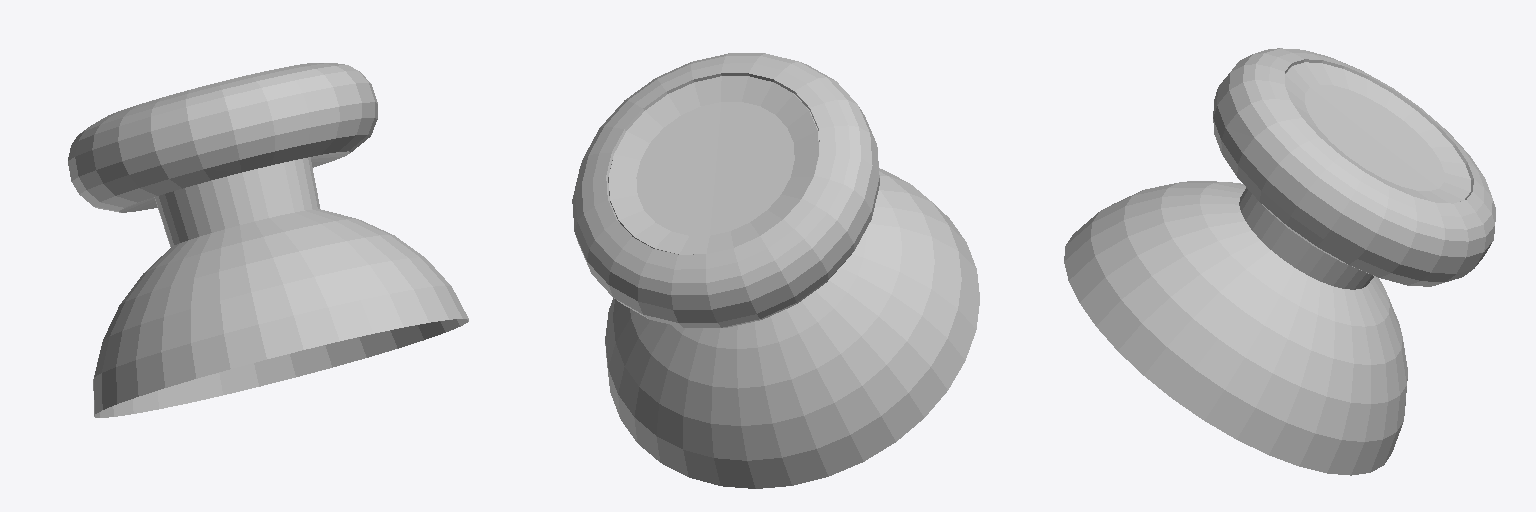
The model's file is oculus_quest_pro_controller_right_thumbstick.obj.
The picture shows the model from 3 angles: view 1: azimuth 30°, elevation 25°; view 2: azimuth 150°, elevation 25°; view 3: azimuth 270°, elevation 25°; orthographic projection.
Visible parts, largest first — view 1: oculus_quest_pro_controller_right_thumbstick; view 2: oculus_quest_pro_controller_right_thumbstick; view 3: oculus_quest_pro_controller_right_thumbstick.
Part boxes in pixels (bbox=[...]): oculus_quest_pro_controller_right_thumbstick: bbox=[68, 63, 468, 417]; oculus_quest_pro_controller_right_thumbstick: bbox=[572, 53, 979, 488]; oculus_quest_pro_controller_right_thumbstick: bbox=[1064, 48, 1495, 475].
Bounding box in the file's own units: 0.0158 × 0.0167 × 0.0176.